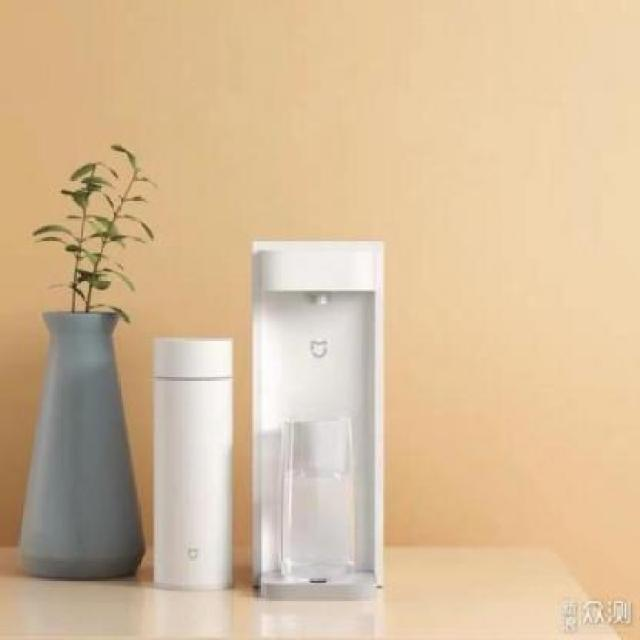cooler: (242, 232, 391, 610)
